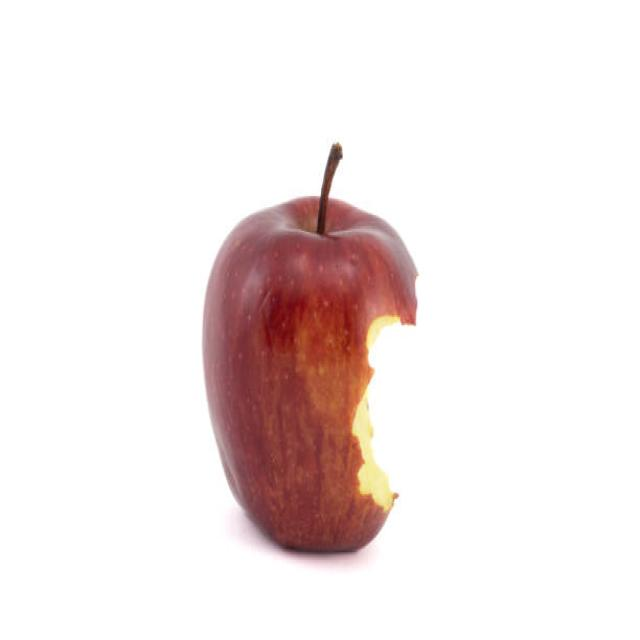apple_fruit: (204, 131, 418, 569)
